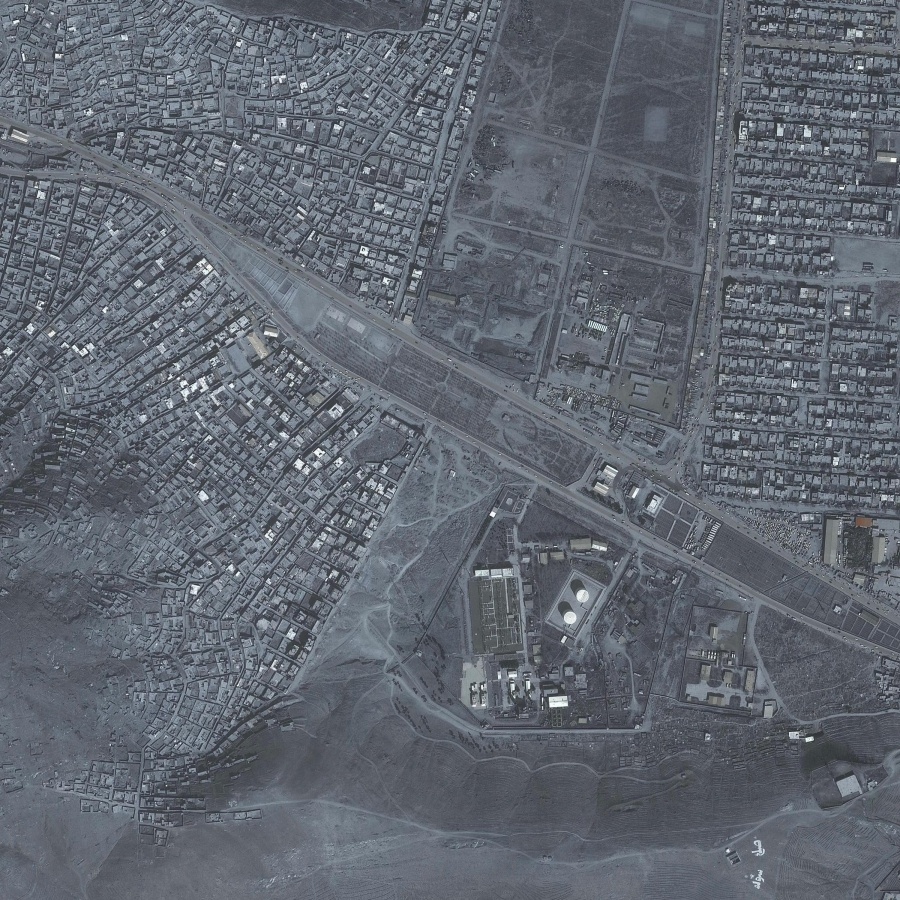PowerPlant: (470, 531, 613, 722)
